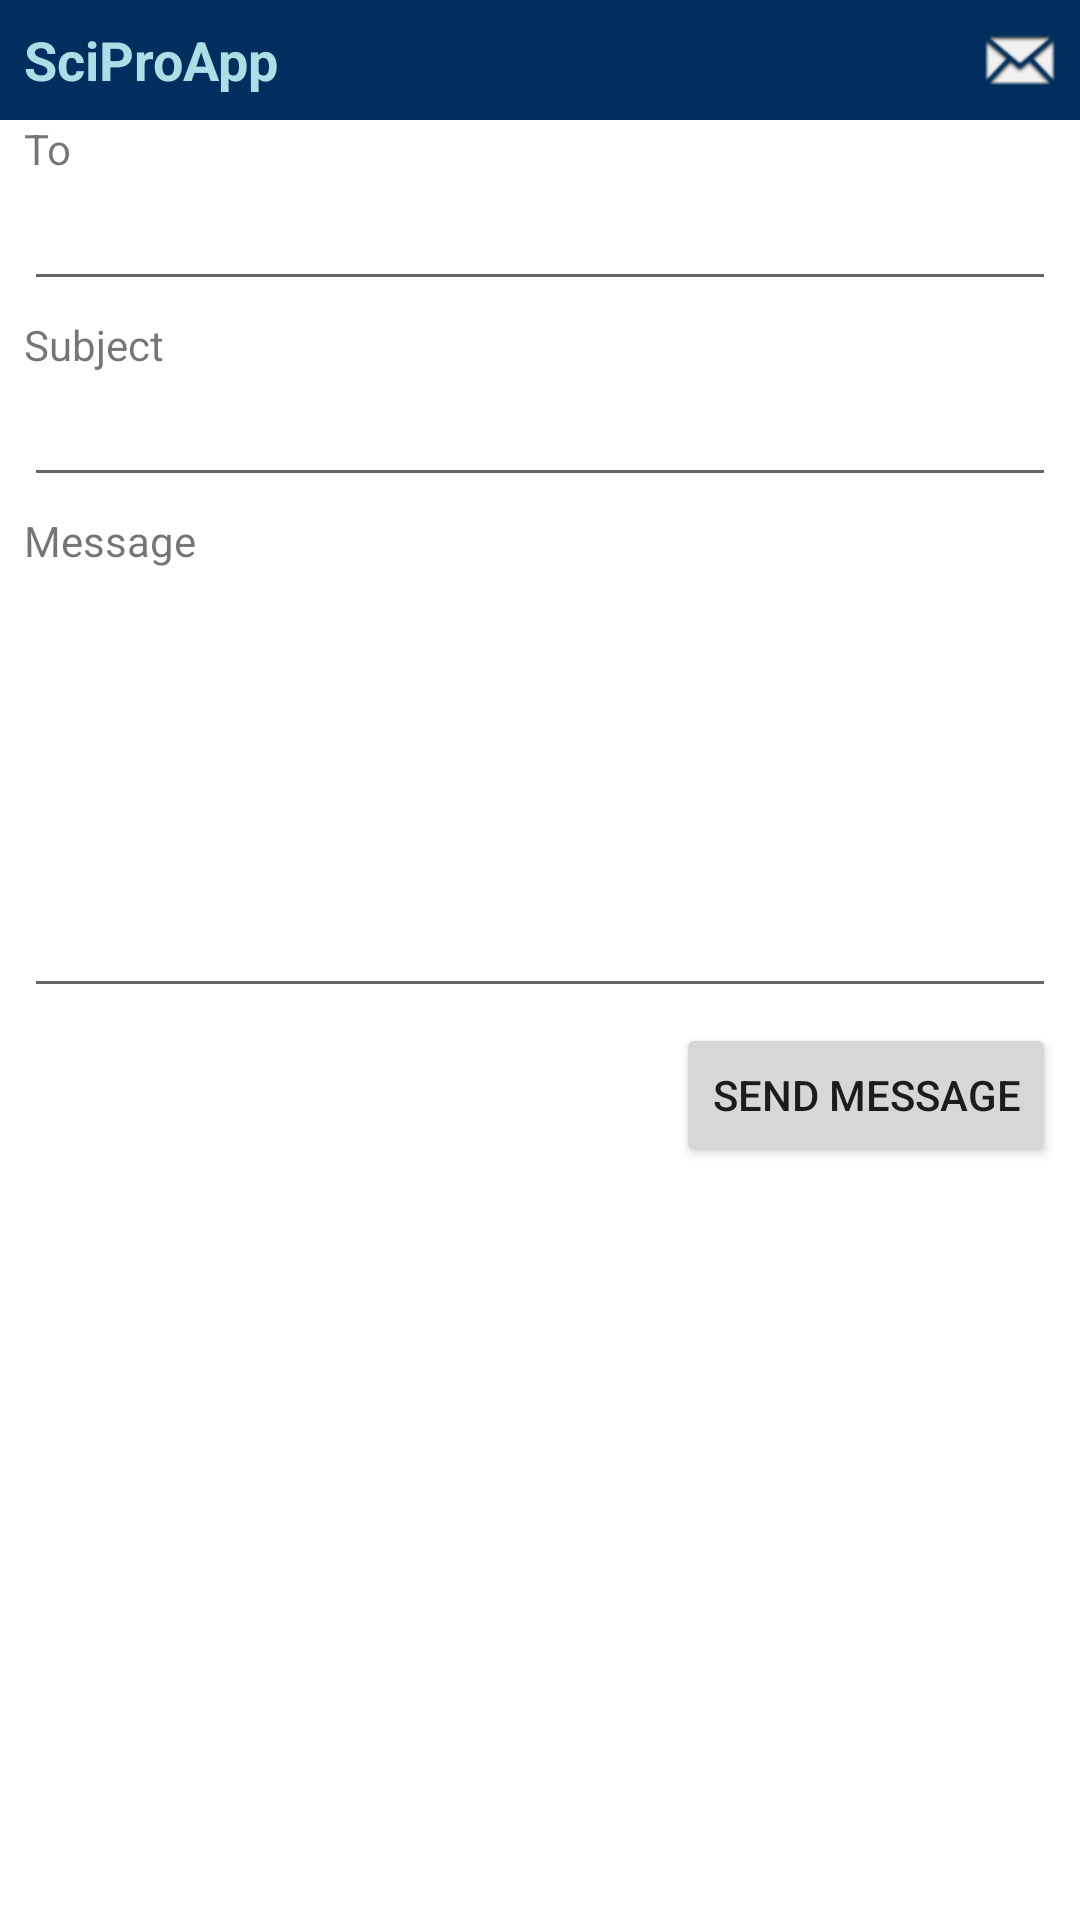

Icon click points for this 1080px×1920px phone screenshot, format (x,y):
message: (1020,60)
